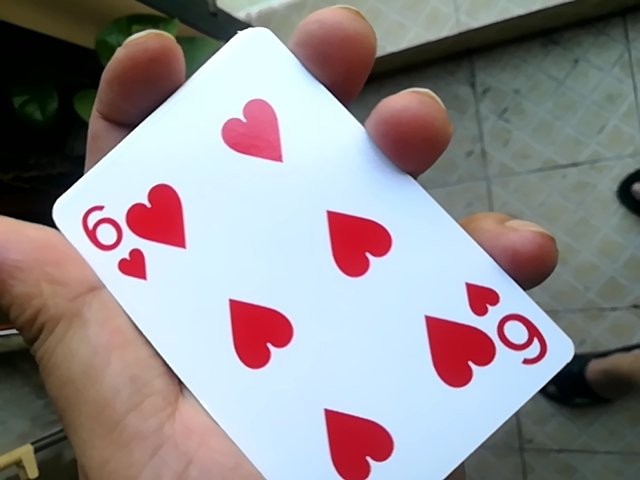hx 6: (45, 30, 568, 480)
